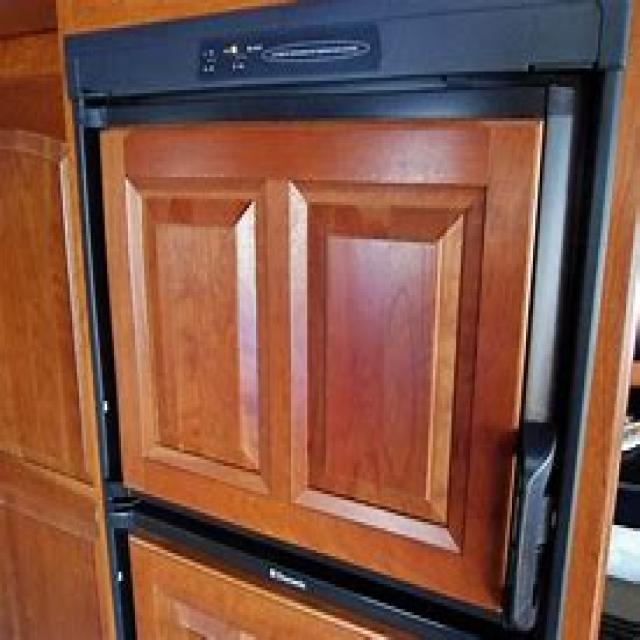fridge: (60, 0, 638, 637)
